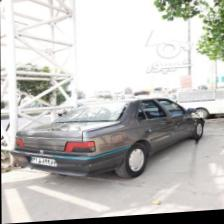plate: (26, 154, 59, 170)
